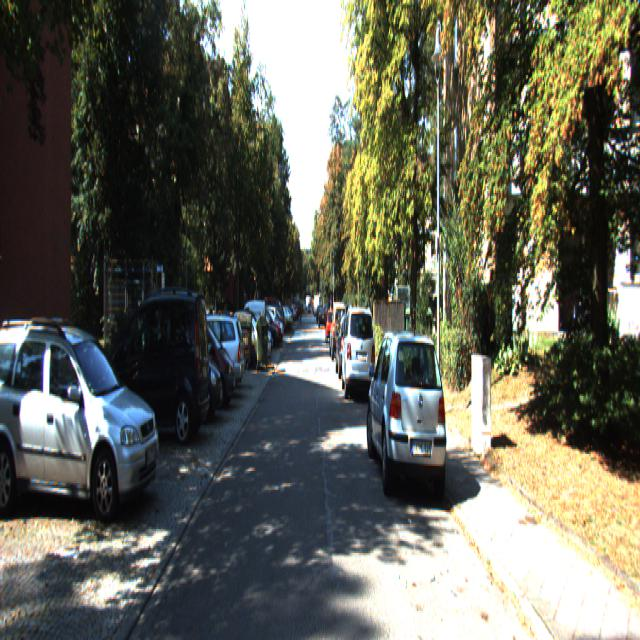Car: (0, 310, 164, 520), (97, 279, 210, 446), (366, 320, 448, 506), (167, 306, 245, 398), (340, 305, 378, 405), (234, 299, 266, 360), (335, 313, 362, 378), (330, 305, 348, 362)
